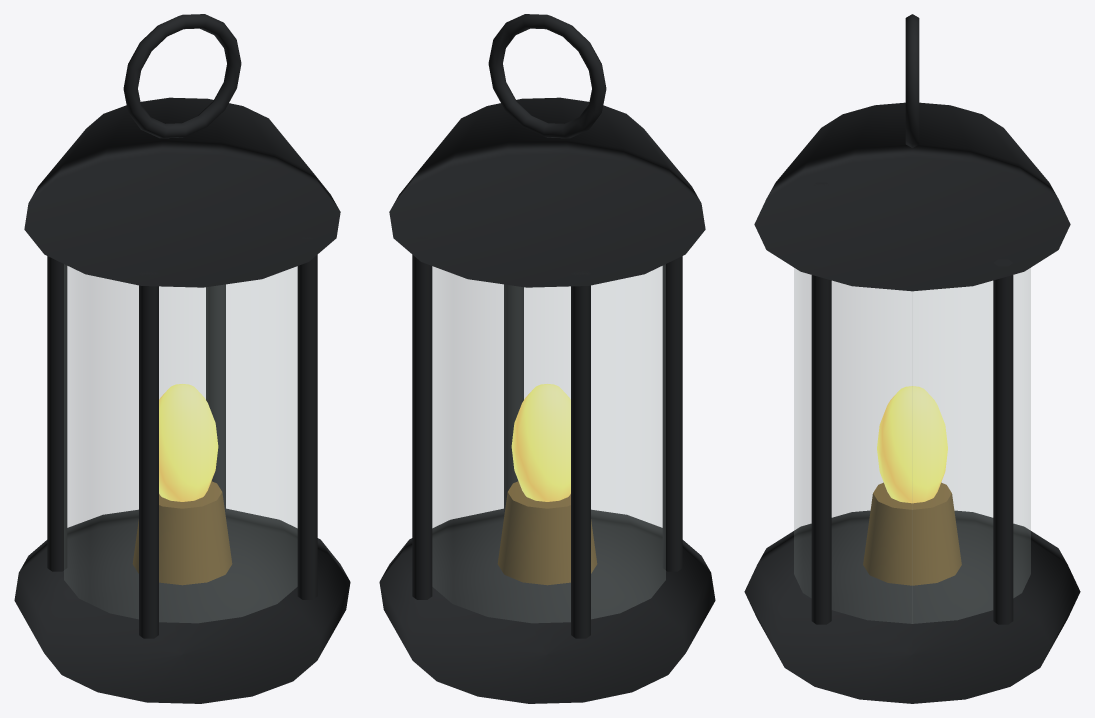
File: oil-lantern.glb
3 views of the same model, side by side, from view 1: azimuth 30°, elevation 25°; view 2: azimuth 150°, elevation 25°; view 3: azimuth 270°, elevation 25° (orthographic).
Visible parts, largest first — view 1: iron, glassClear, brassOld, flame; view 2: iron, glassClear, brassOld, flame; view 3: iron, glassClear, brassOld, flame.
Part boxes in pixels (bbox=[...]): iron: bbox=[14, 14, 350, 703]; glassClear: bbox=[64, 264, 297, 622]; brassOld: bbox=[132, 481, 232, 585]; flame: bbox=[159, 384, 218, 501]; iron: bbox=[379, 14, 715, 703]; glassClear: bbox=[432, 264, 665, 622]; brassOld: bbox=[497, 481, 597, 585]; flame: bbox=[511, 384, 570, 501]; iron: bbox=[744, 14, 1080, 703]; glassClear: bbox=[794, 268, 1030, 623]; brassOld: bbox=[863, 482, 961, 585]; flame: bbox=[877, 386, 947, 503].
Bounding box in the file's own units: 0.17 × 0.354 × 0.17.
